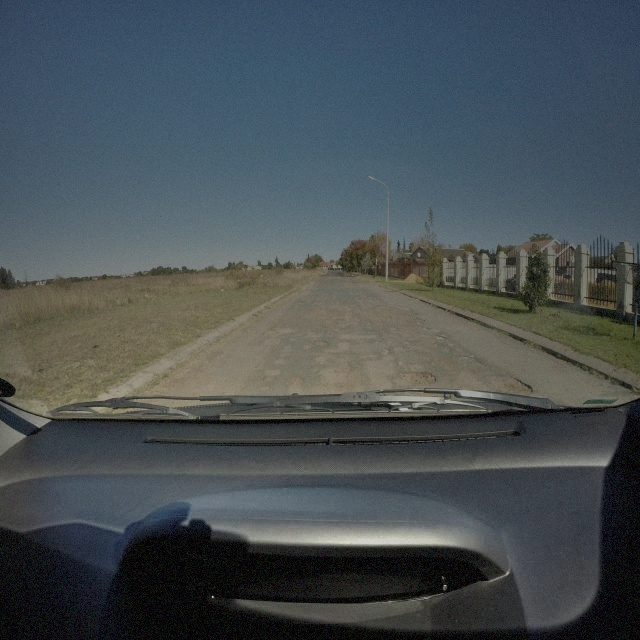pothole: (492, 373, 534, 399), (401, 367, 437, 388), (262, 327, 279, 338), (288, 376, 306, 386), (315, 341, 329, 349)
